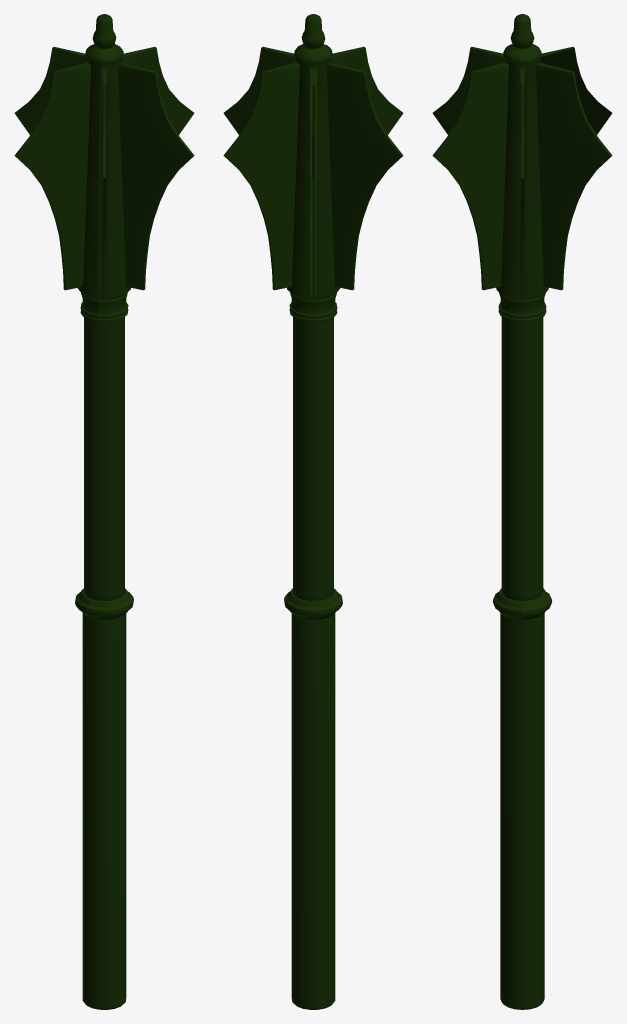
Rendered from mace.fbx.
The picture shows the model from 3 angles, left to right: view 1: azimuth 30°, elevation 25°; view 2: azimuth 150°, elevation 25°; view 3: azimuth 270°, elevation 25°; orthographic projection.
Parts seen in each view (by area): view 1: mace; view 2: mace; view 3: mace.
Part boxes in pixels (left/top/right/bottom): mace: left=14, top=14, right=194, bottom=1009; mace: left=223, top=14, right=403, bottom=1009; mace: left=432, top=14, right=612, bottom=1009.
Size of the model in its own units: 1.49 by 7.87 by 1.3.
